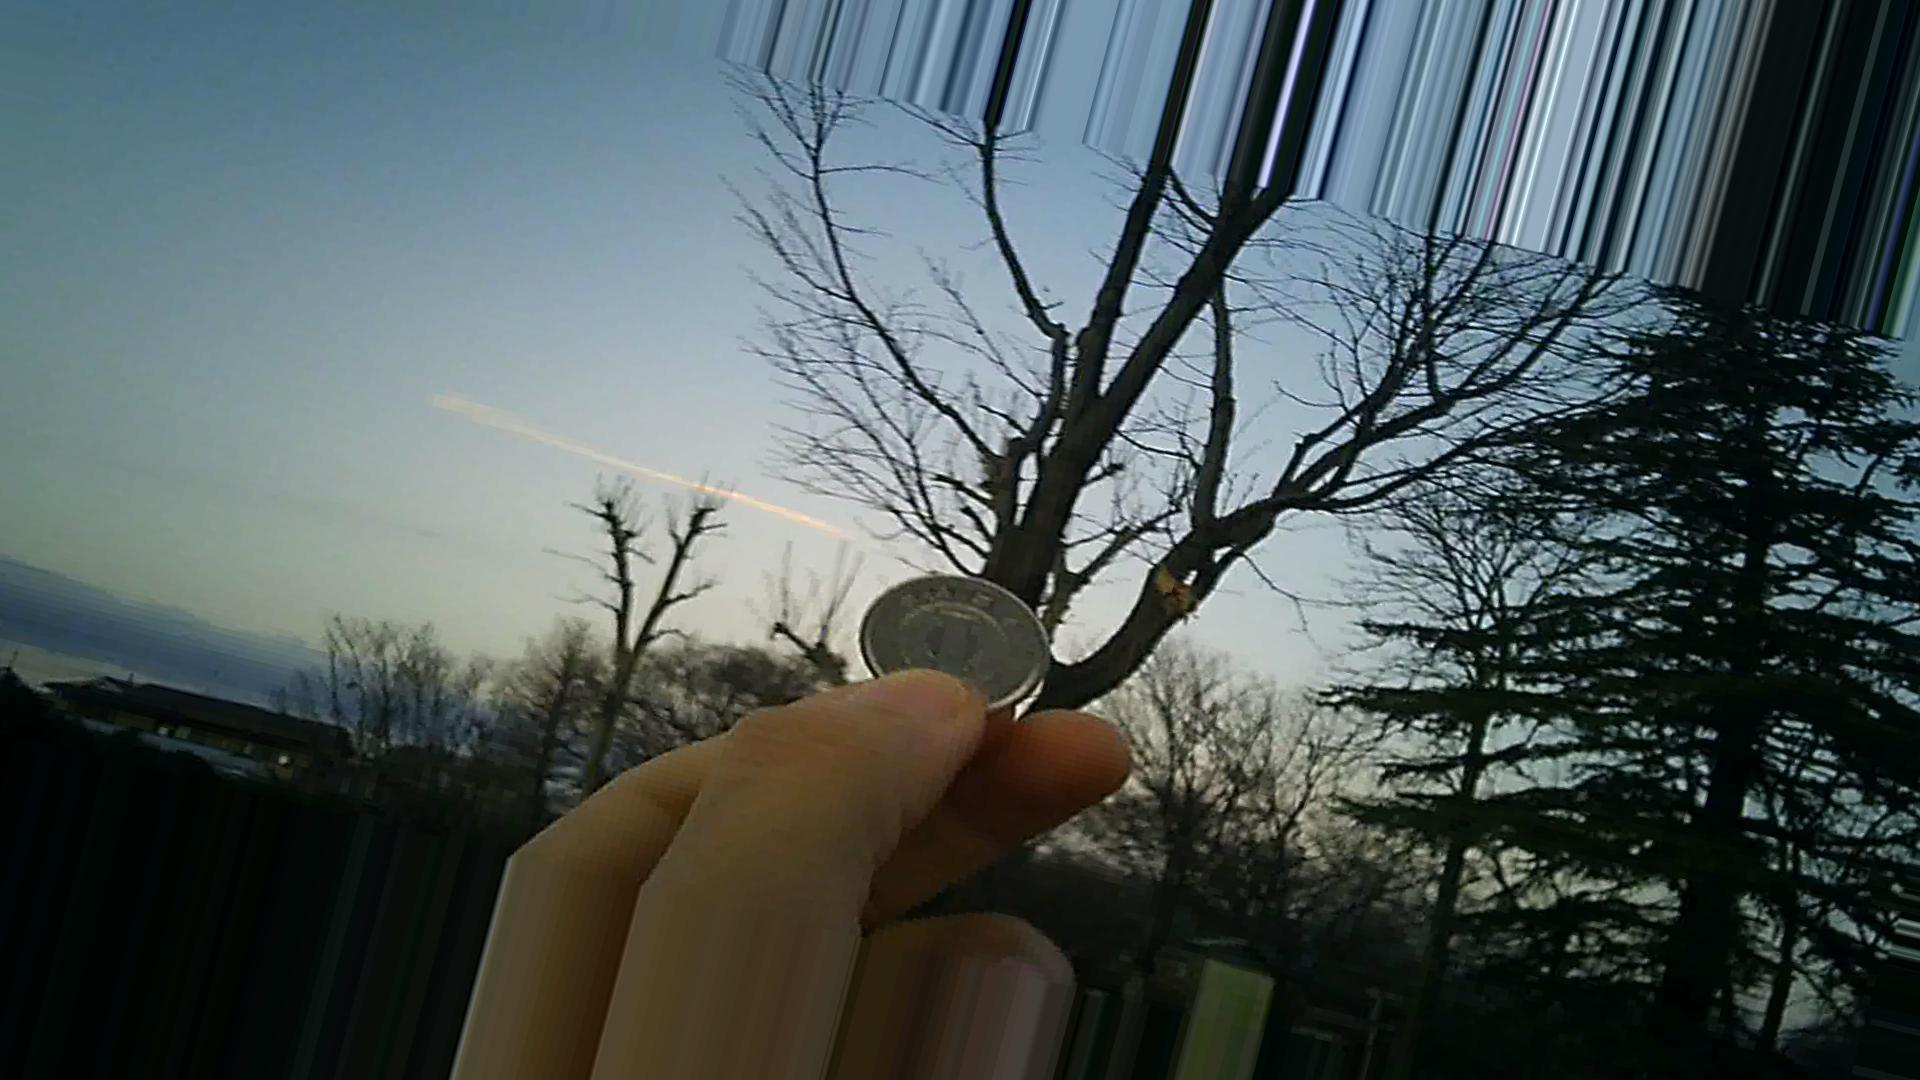1 Yen: (852, 574, 1050, 731)
